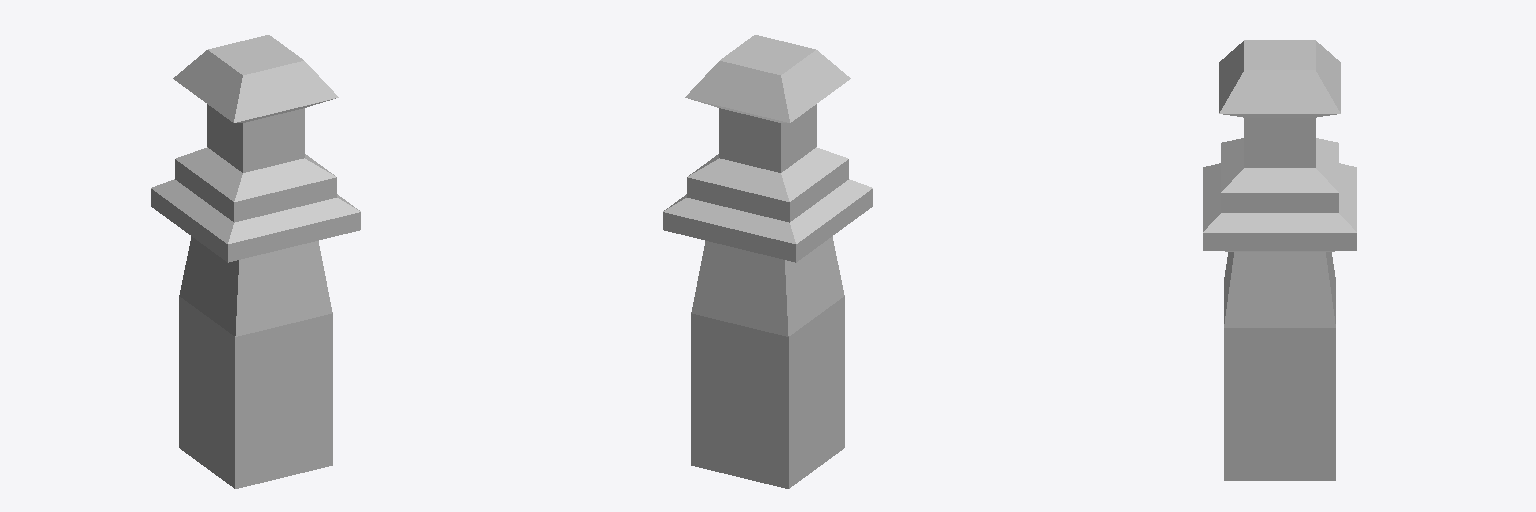
File: Building2.obj
3 views of the same model, side by side, from view 1: azimuth 30°, elevation 25°; view 2: azimuth 150°, elevation 25°; view 3: azimuth 270°, elevation 25° (orthographic).
Visible parts, largest first — view 1: Building2; view 2: Building2; view 3: Building2.
Boxes of the visible parts, x1=… form: Building2: x1=151, y1=35, x2=360, y2=488; Building2: x1=663, y1=35, x2=872, y2=488; Building2: x1=1203, y1=40, x2=1356, y2=480.
Size of the model in its own units: 9.85 by 28.29 by 9.85.